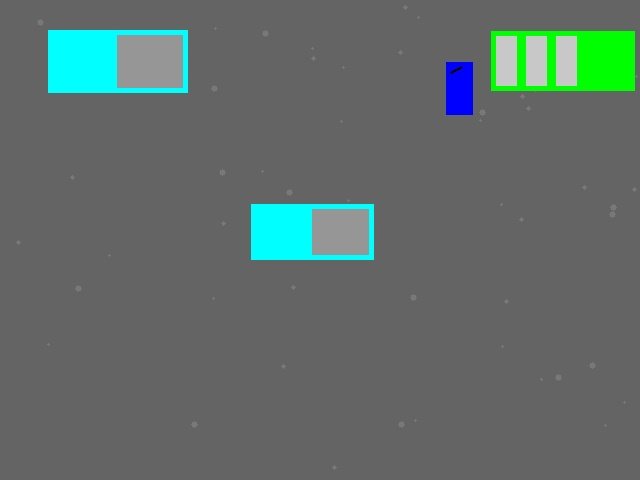bus: (491, 31, 634, 90)
motorcycle: (446, 62, 472, 114)
truck: (48, 30, 187, 92), (251, 204, 373, 259)
